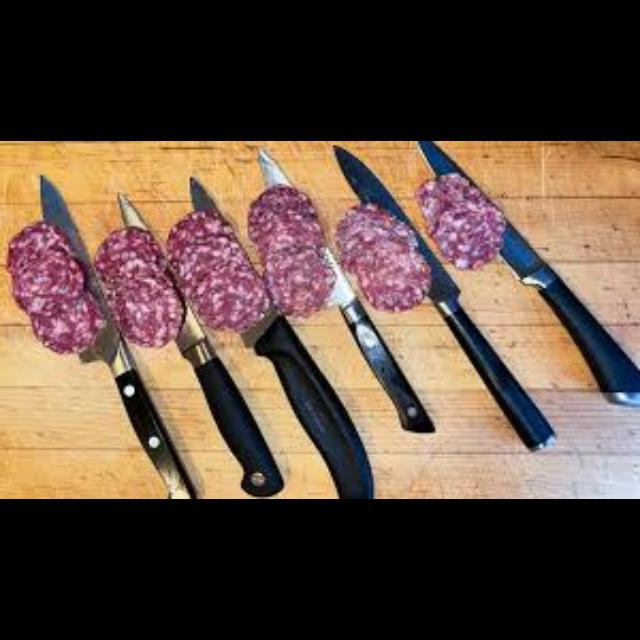Knife: (331, 144, 557, 450), (188, 175, 374, 497), (417, 141, 638, 405), (39, 173, 203, 497), (115, 190, 283, 496), (256, 148, 436, 432)
